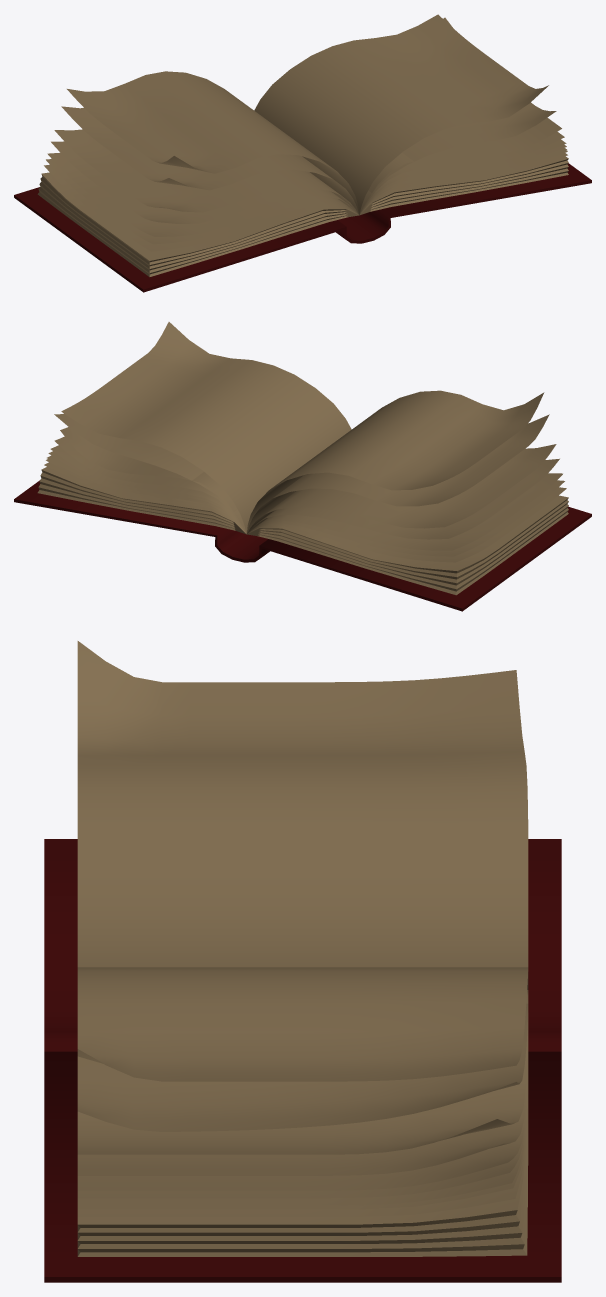
The model's file is Open book.fbx.
The picture shows the model from 3 angles, top to bottom: view 1: azimuth 30°, elevation 25°; view 2: azimuth 150°, elevation 25°; view 3: azimuth 270°, elevation 25°; orthographic projection. The views are drawn at different scales.
Parts seen in each view (by area): view 1: open book; view 2: open book; view 3: open book.
Boxes of the visible parts, <box> form: open book: <box>14,14,591,292</box>; open book: <box>14,322,591,611</box>; open book: <box>44,641,561,1282</box>.
Bounding box in the file's own units: 31.52 × 8.44 × 15.75.
